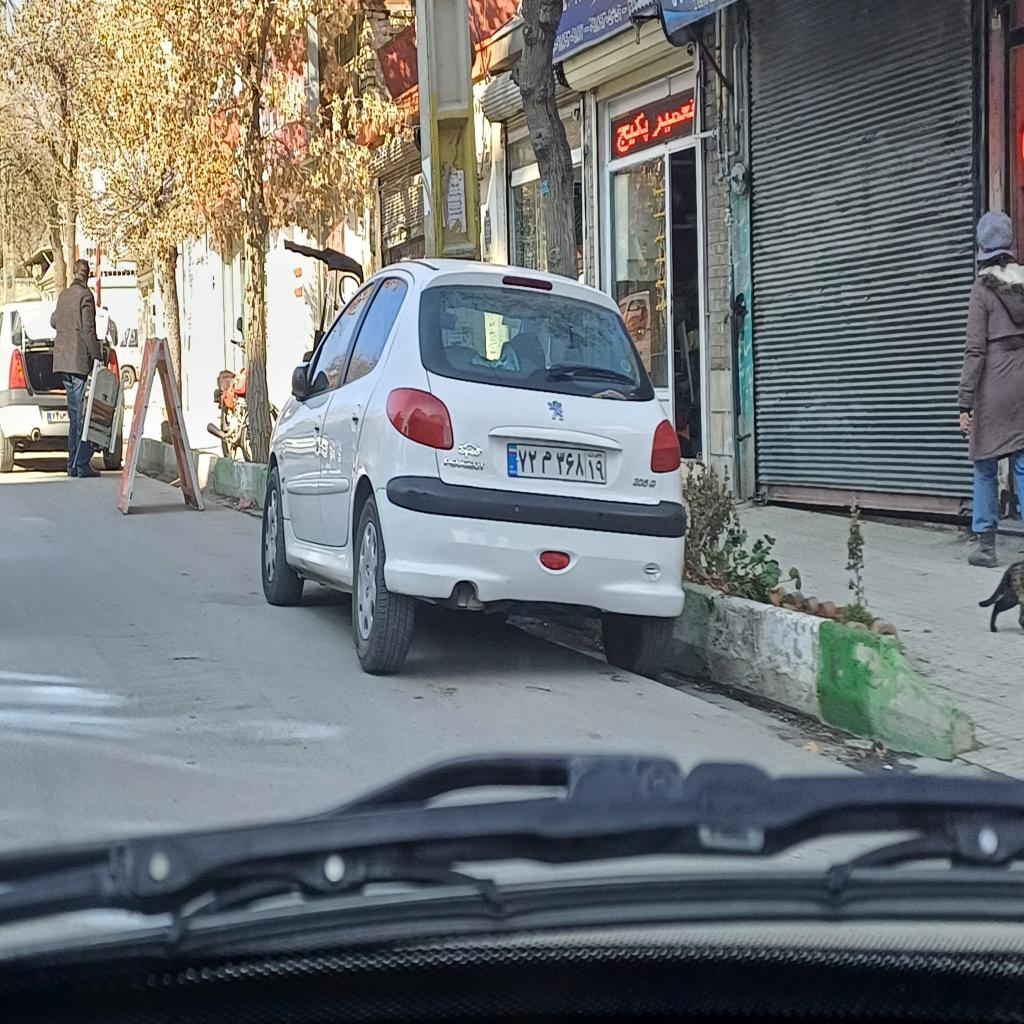Plates: (508, 442, 606, 485)
